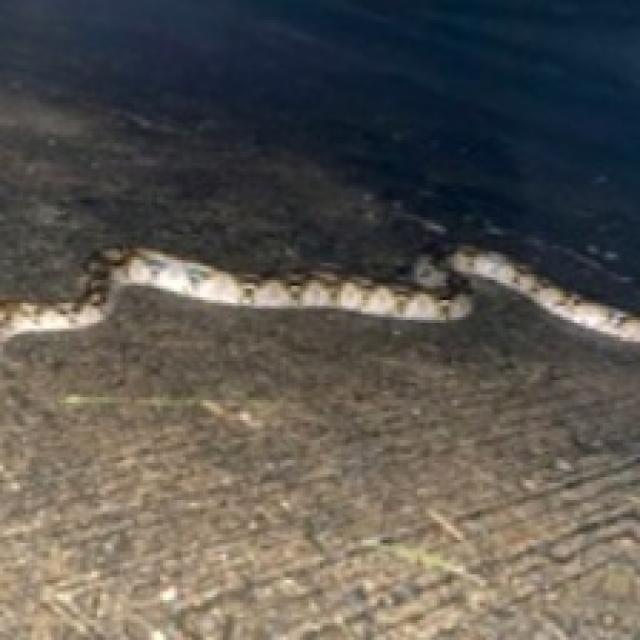reticulated python: (0, 249, 469, 340), (446, 246, 637, 340)
